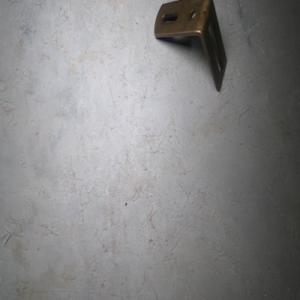MetalPart: (152, 0, 228, 93)
